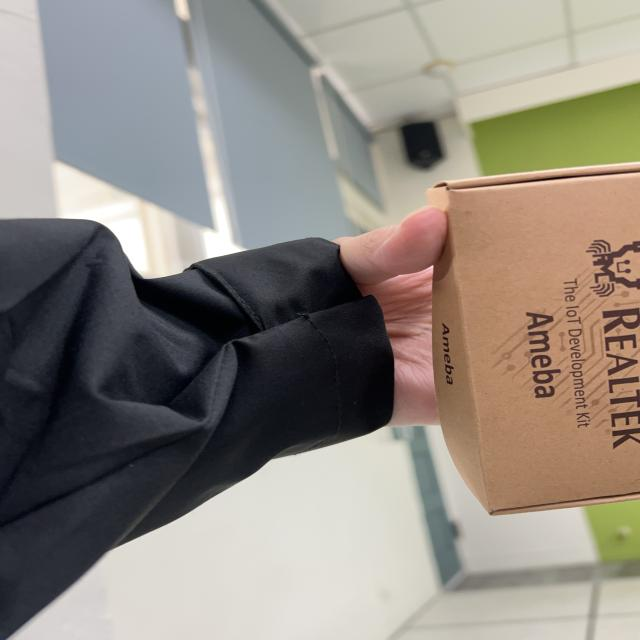box: (426, 157, 640, 531)
